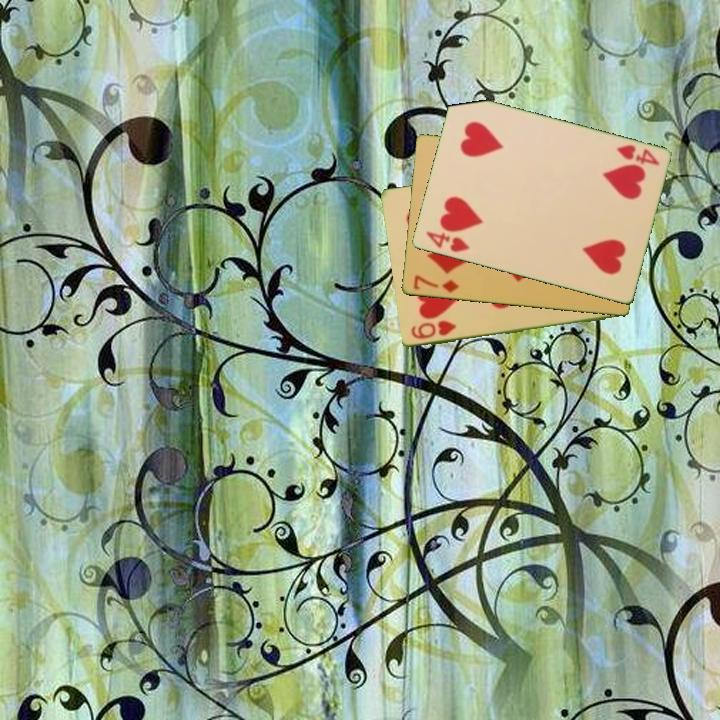4h: (613, 141, 662, 169), (422, 228, 472, 255)
6h: (407, 317, 459, 342)
7d: (409, 272, 461, 296)
